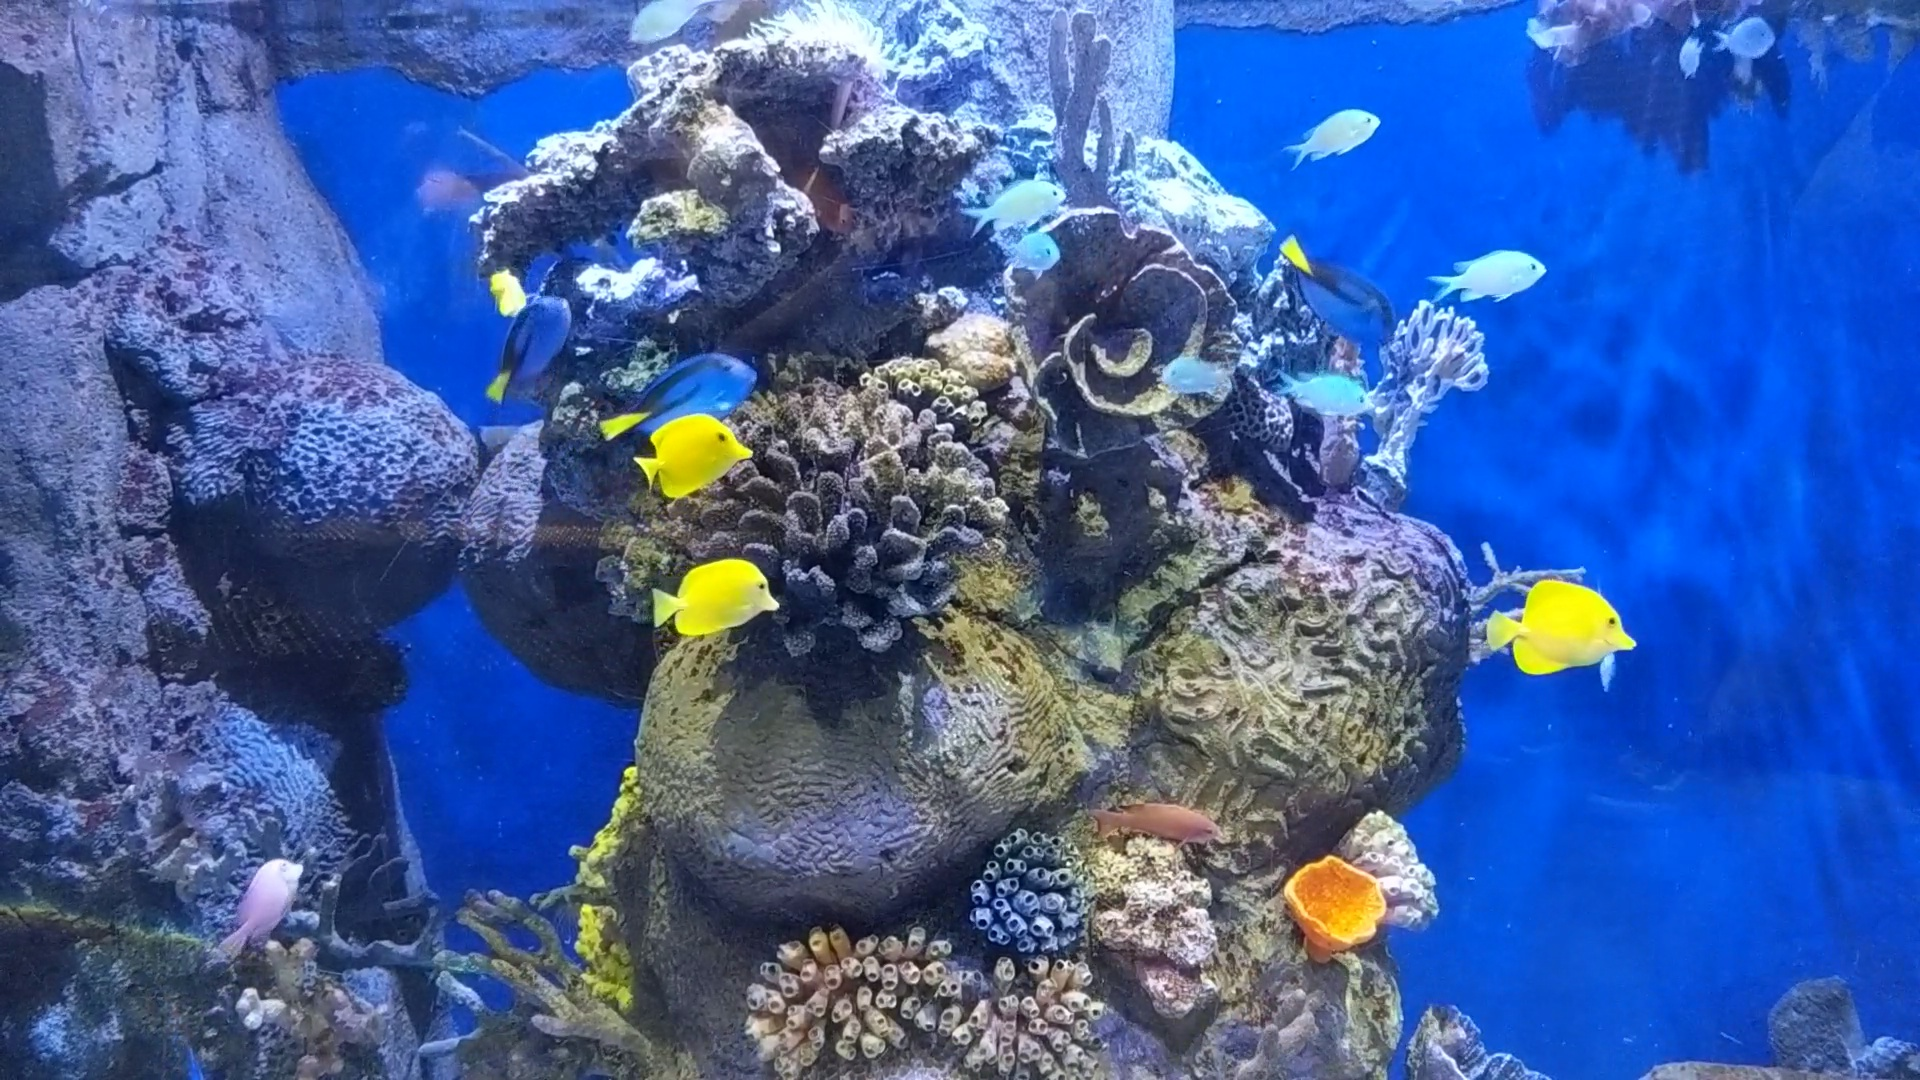blue tang surgeonfish: (596, 347, 764, 444), (1273, 229, 1404, 347), (483, 287, 575, 410), (164, 1025, 225, 1080)
damselfish: (1416, 244, 1556, 316), (1276, 360, 1382, 430), (1280, 100, 1382, 173), (1704, 7, 1788, 76), (957, 178, 1069, 229), (1153, 349, 1236, 407), (1007, 231, 1072, 290), (1671, 28, 1704, 87)
saddle butterfly fish: (1476, 574, 1639, 688), (642, 551, 781, 650), (634, 407, 760, 512), (484, 251, 530, 332)
